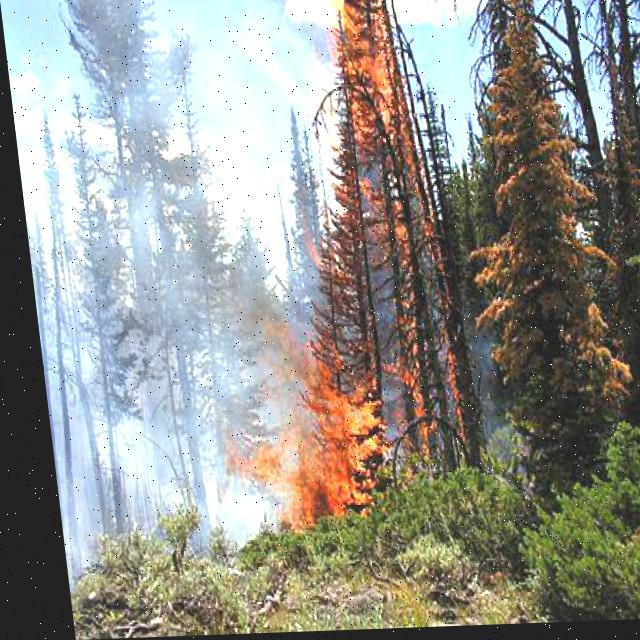Fire: (318, 0, 458, 464), (281, 124, 421, 438), (200, 311, 388, 537)
